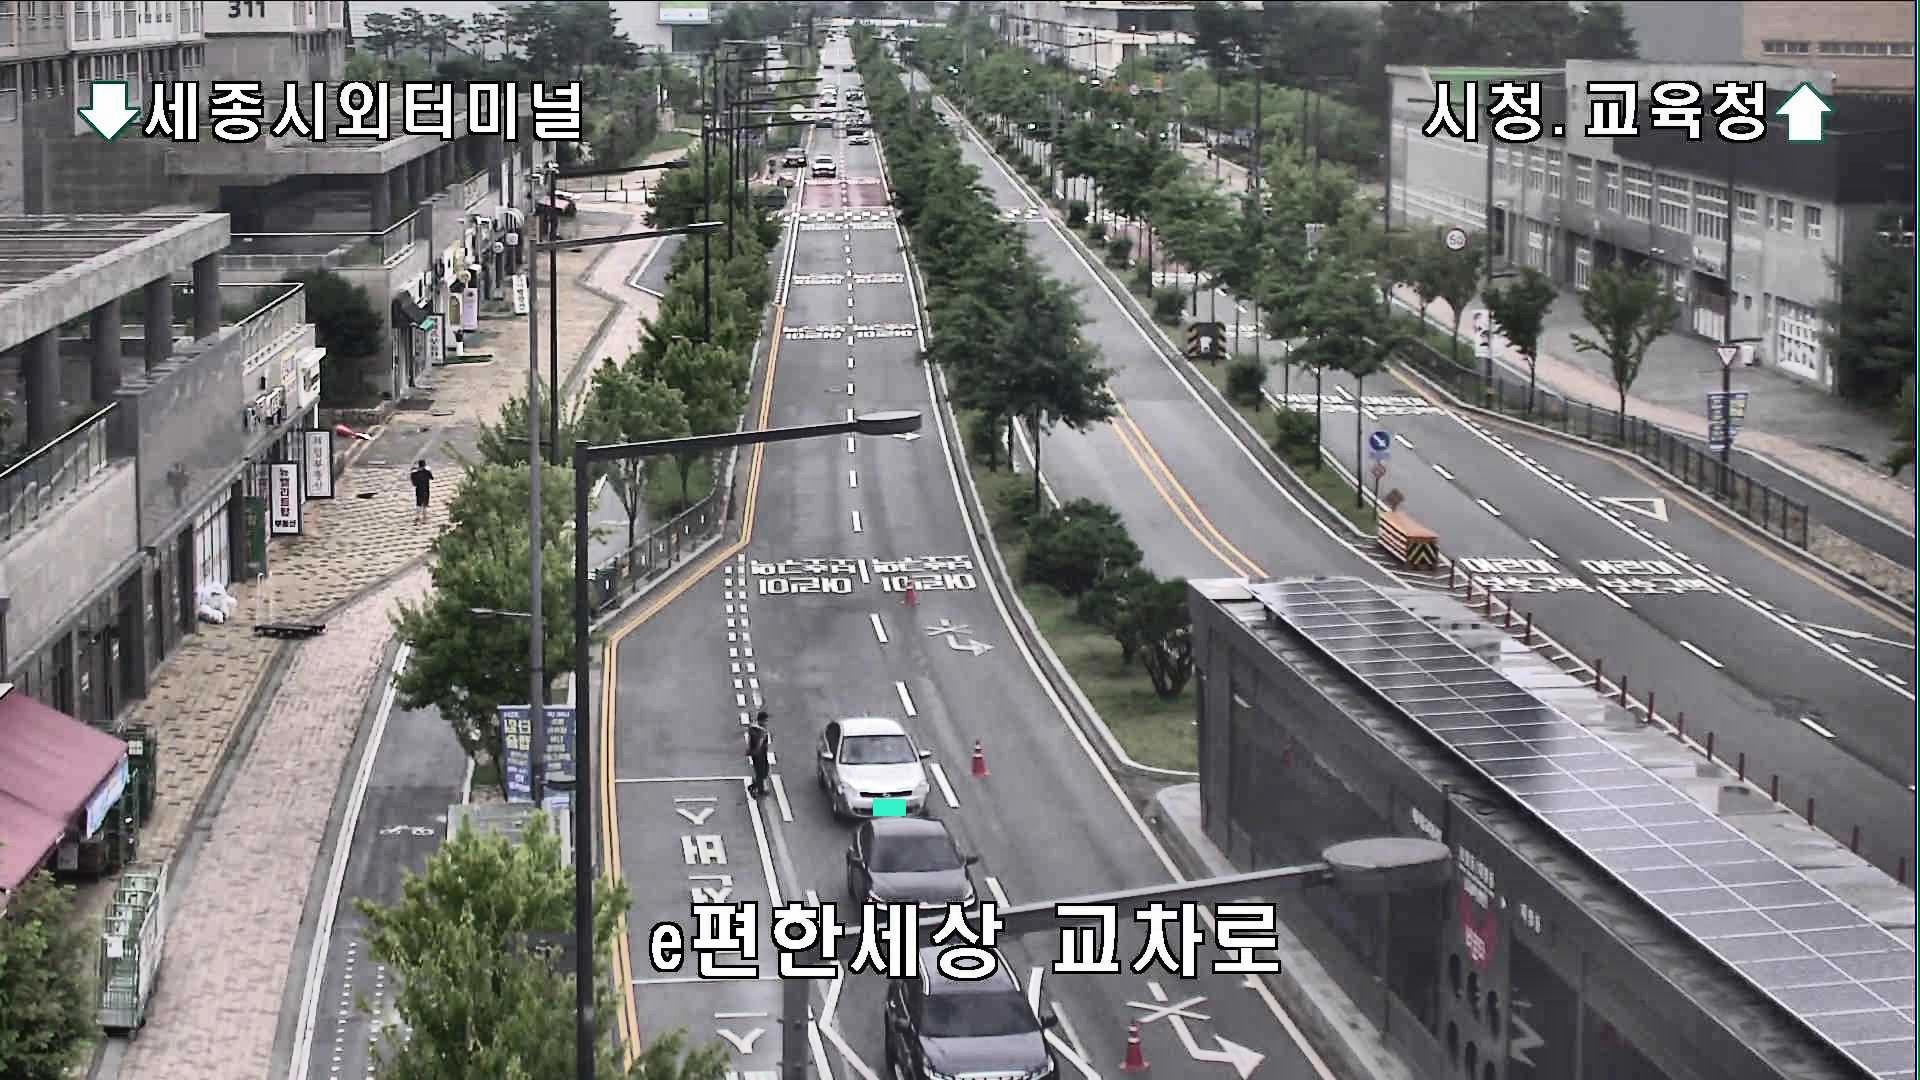jaywalk: (744, 705, 775, 795)
sidewalk: (411, 455, 436, 520)
